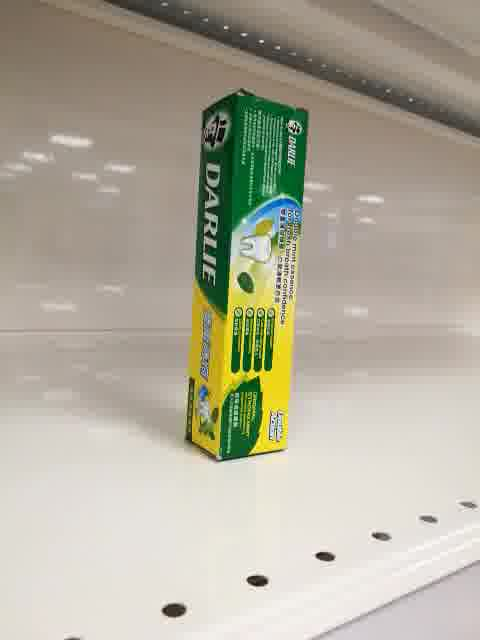toothpaste: (184, 88, 309, 462)
